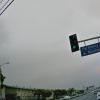Traffic light: (59, 24, 84, 60)
